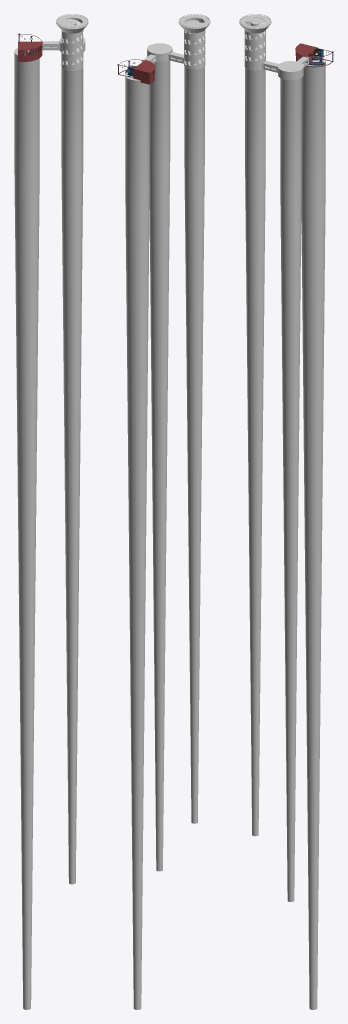
File: auditorio01.glb
3 renders of one model, left to right at view 1: azimuth 90°, elevation 25°; view 2: azimuth 150°, elevation 25°; view 3: azimuth 330°, elevation 25°, orthographic. The views are drawn at different scales.
Parts seen in each view (by area): view 1: Cylinder.110, Cylinder.108, Cylinder.109, Cylinder.029, Cylinder.039, Cylinder.008; view 2: Cylinder.110, Cylinder.109, Cylinder.108, Cylinder.029, Cylinder.039, Cylinder.013, Cylinder.008; view 3: Cylinder.110, Cylinder.109, Cylinder.108, Cylinder.029, Cylinder.013, Cylinder.039.
Part boxes in pixels (left/top/right/bottom): Cylinder.110: left=14, top=48, right=39, bottom=1009; Cylinder.108: left=61, top=68, right=82, bottom=844; Cylinder.109: left=61, top=52, right=83, bottom=884; Cylinder.029: left=61, top=30, right=83, bottom=70; Cylinder.039: left=56, top=15, right=88, bottom=33; Cylinder.008: left=18, top=45, right=42, bottom=61; Cylinder.110: left=125, top=72, right=149, bottom=1009; Cylinder.109: left=149, top=60, right=170, bottom=871; Cylinder.108: left=184, top=66, right=204, bottom=823; Cylinder.029: left=184, top=30, right=205, bottom=69; Cylinder.039: left=178, top=15, right=210, bottom=33; Cylinder.013: left=147, top=43, right=172, bottom=62; Cylinder.008: left=133, top=69, right=154, bottom=84; Cylinder.110: left=301, top=56, right=325, bottom=1009; Cylinder.109: left=280, top=78, right=301, bottom=901; Cylinder.108: left=245, top=67, right=265, bottom=836; Cylinder.029: left=244, top=30, right=265, bottom=69; Cylinder.013: left=278, top=61, right=303, bottom=80; Cylinder.039: left=239, top=15, right=271, bottom=33.
Size of the model in its own units: 46.42 by 667 by 44.86.
Materials: 7 (1 with a texture image).
